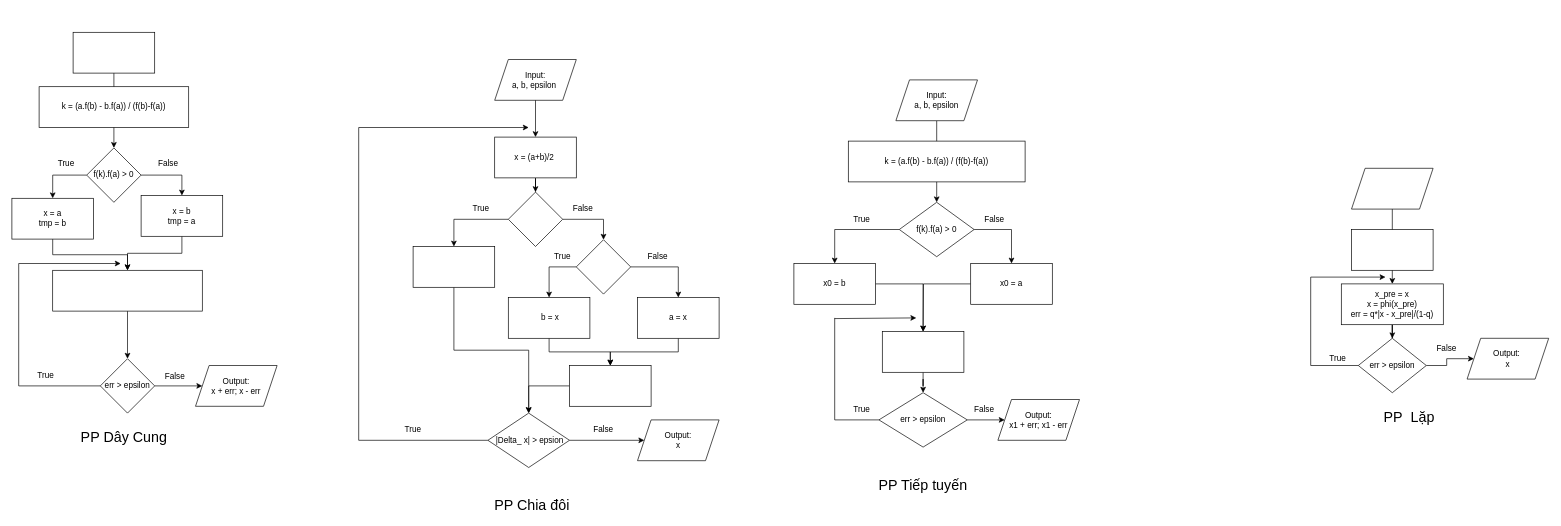
The diagram is 1561 pixels wide and 526 high, and some of its shapes have lost their labels. Here are the shapes that lost their labels. From the top down, the centre of each, then its label:
At (x=113, y=52): "Input: a, b , m, epsilon".
At (x=1392, y=188): "Input: x0, q, epsilon".
At (x=535, y=219): "f(x) = 0".
At (x=453, y=266): "Delta_x = 0 break".
At (x=603, y=266): "f(x) * f(a) < 0".
At (x=1392, y=249): "x = x0".
At (x=127, y=290): "y = f(x) x = x - y*(x-d) / ( y - f(d)) err = |f(x)| / m".
At (x=923, y=351): "x1 = x0 - f(x) / f'(x) err = |x1 - x0|".
At (x=610, y=385): "Delta_x = b - a".
